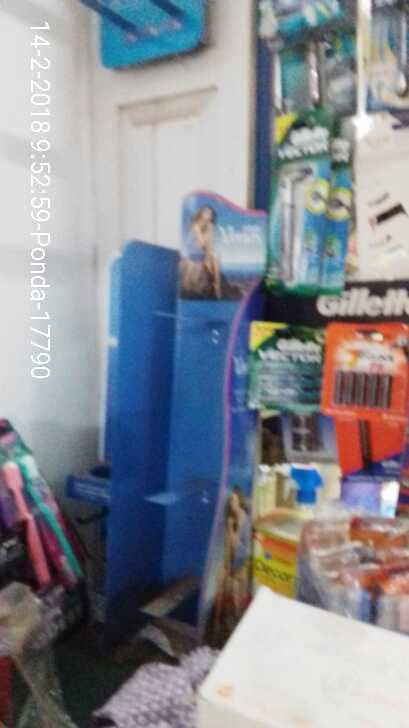reject: (130, 234, 212, 406)
